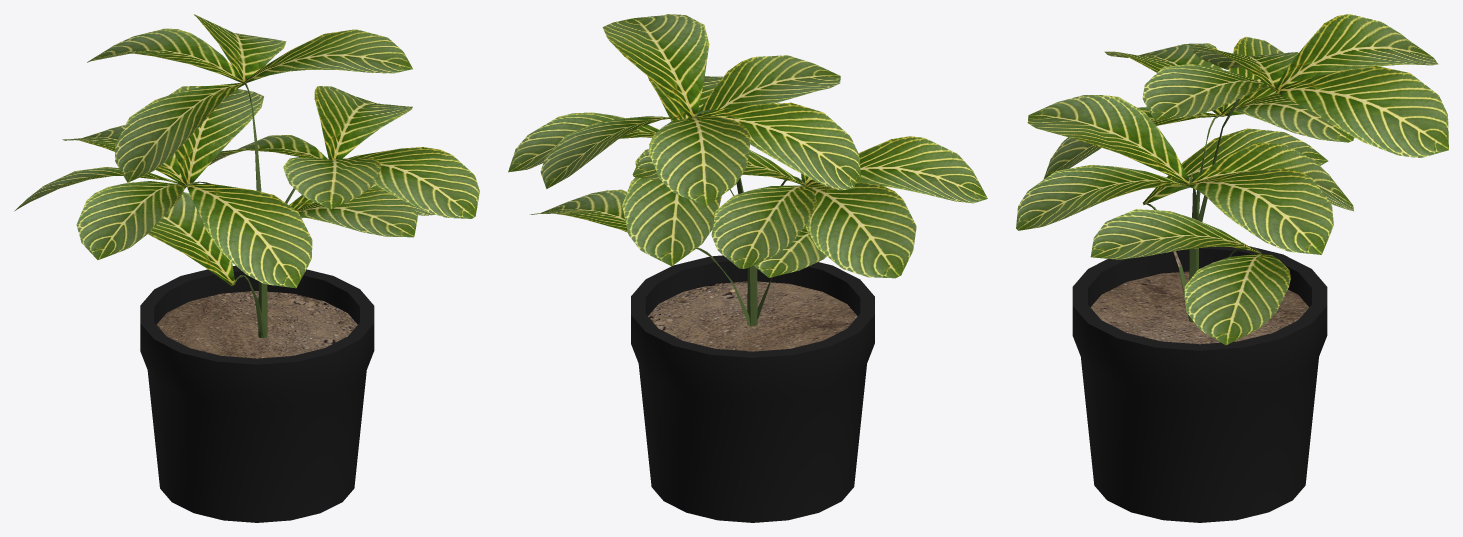
Rendered from Plant 1.FBX.
The picture shows the model from 3 angles, left to right: view 1: azimuth 30°, elevation 25°; view 2: azimuth 150°, elevation 25°; view 3: azimuth 270°, elevation 25°; orthographic projection. The views are drawn at different scales.
Visible parts, largest first — view 1: Plant 1; view 2: Plant 1; view 3: Plant 1.
Boxes of the visible parts, box(x1,y1,x2,y2) form: Plant 1: box(14, 14, 479, 522); Plant 1: box(508, 14, 987, 522); Plant 1: box(1016, 14, 1448, 522).
Size of the model in its own units: 20.25 by 20.37 by 18.01.
1 material, 1 textured.
